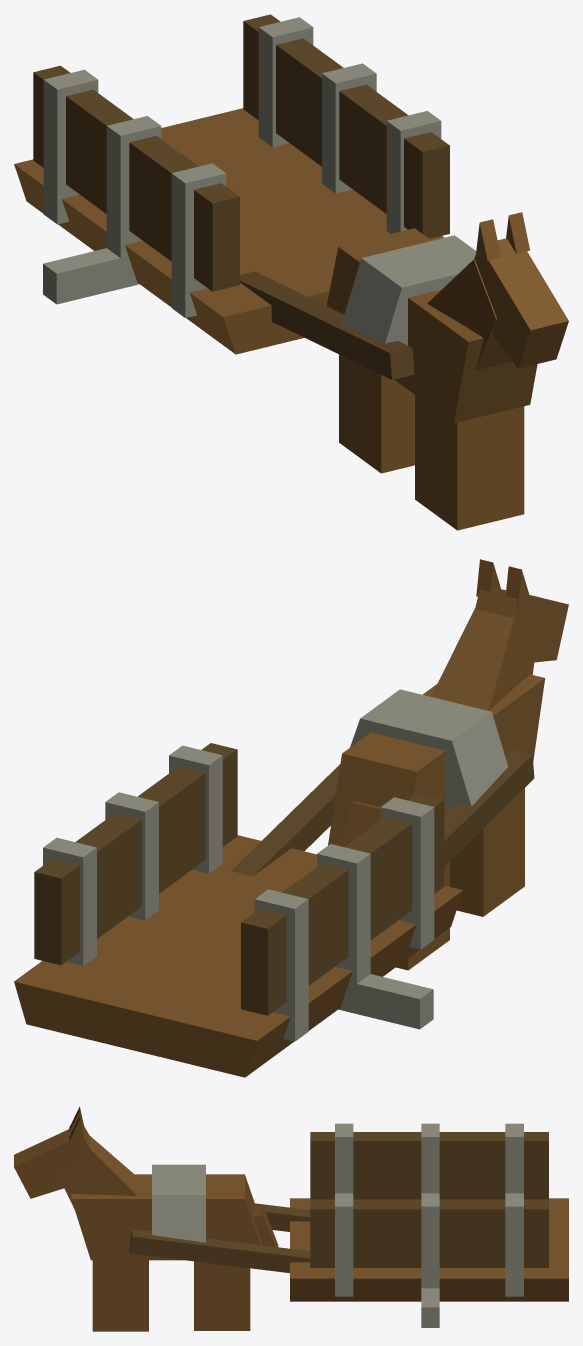
File: transportcart.fbx
3 renders of one model, top to bottom at view 1: azimuth 30°, elevation 25°; view 2: azimuth 150°, elevation 25°; view 3: azimuth 270°, elevation 25°, orthographic. The views are drawn at different scales.
Visible parts, largest first — view 1: polySurface11; view 2: polySurface11; view 3: polySurface11.
Part boxes in pixels (x1,y1,x2,y2): polySurface11: [14, 14, 568, 530]; polySurface11: [14, 559, 568, 1077]; polySurface11: [14, 1106, 568, 1331].
Bounding box in the file's own units: 26.75 × 21.06 × 50.97.
Materials: 1 (1 with a texture image).
